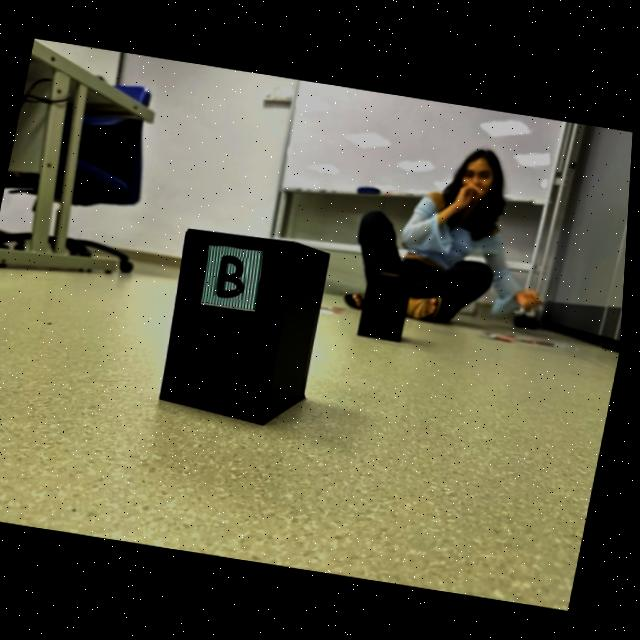B: (221, 255, 248, 297)
